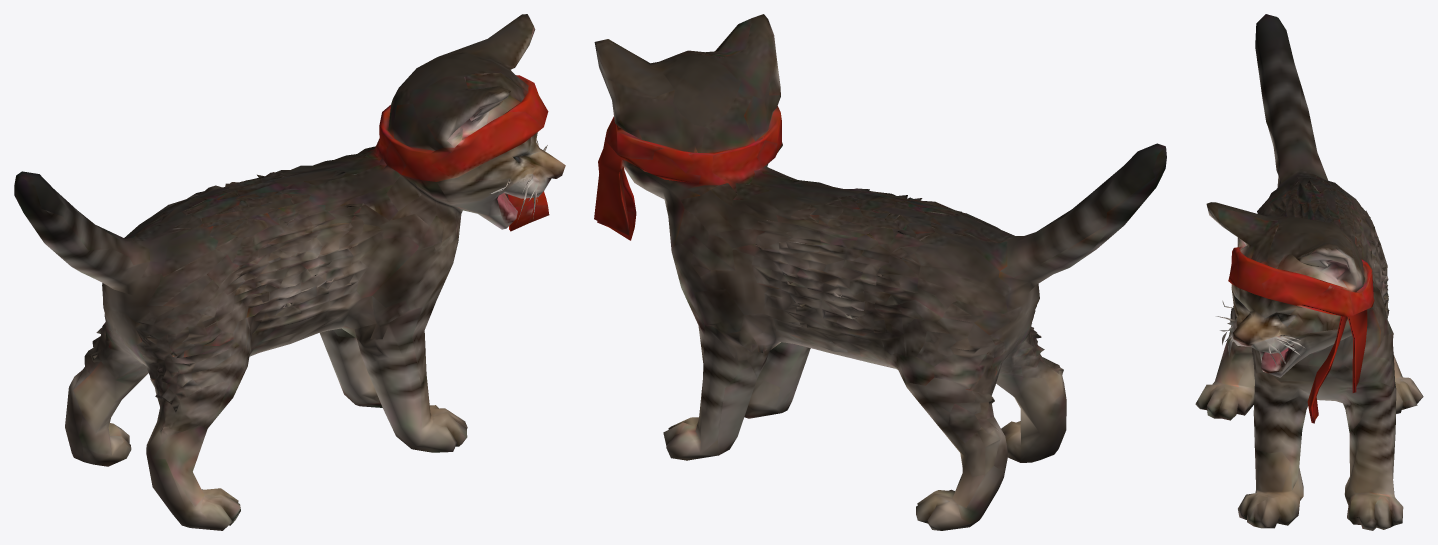
Rendered from red-kitten-crew-lo.glb.
3 renders of one model, left to right at view 1: azimuth 30°, elevation 25°; view 2: azimuth 150°, elevation 25°; view 3: azimuth 270°, elevation 25°, orthographic. The views are drawn at different scales.
Visible parts, largest first — view 1: tripo_node_9be49136-dcac-4256-8b96-fe0e229e891a; view 2: tripo_node_9be49136-dcac-4256-8b96-fe0e229e891a; view 3: tripo_node_9be49136-dcac-4256-8b96-fe0e229e891a.
Boxes of the visible parts, x1=… form: tripo_node_9be49136-dcac-4256-8b96-fe0e229e891a: x1=14, y1=14, x2=565, y2=530; tripo_node_9be49136-dcac-4256-8b96-fe0e229e891a: x1=594, y1=14, x2=1166, y2=530; tripo_node_9be49136-dcac-4256-8b96-fe0e229e891a: x1=1195, y1=14, x2=1423, y2=530.
Size of the model in its own units: 1.57 by 1 by 0.63.
Materials: 1 (1 with a texture image).
